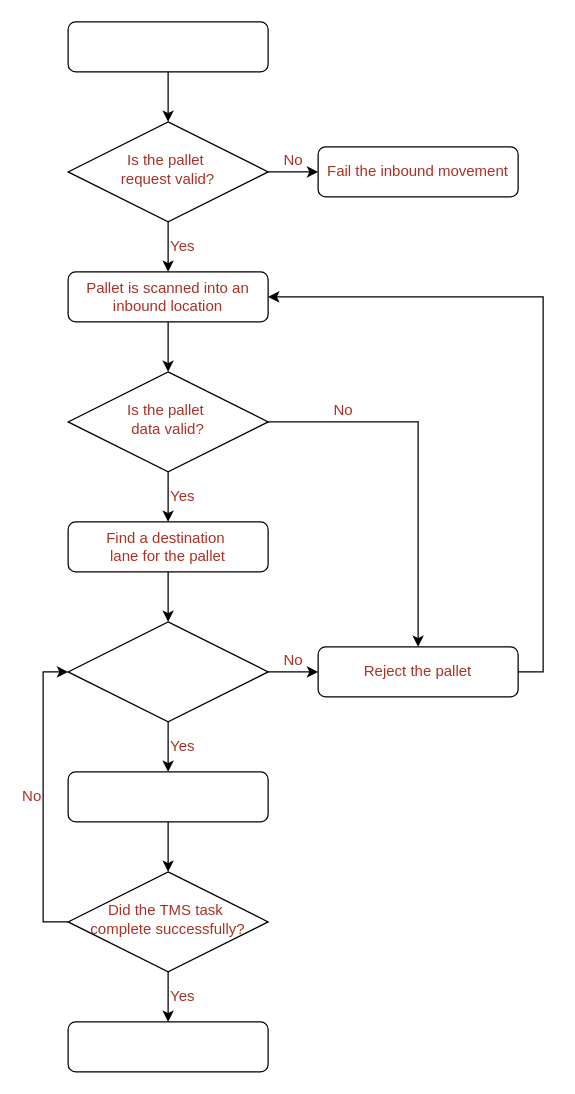
Image size: 575x1094. Some labels were removed from this diagram. The centre of each missing label's shape, as x and y in pixels:
Client sends a pallet creation request.: (x=167, y=46)
Create a TMS Task for the pallet: (x=167, y=796)
Successfully complete the inbound movement: (x=167, y=1046)
Was a destination found?: (x=167, y=671)
